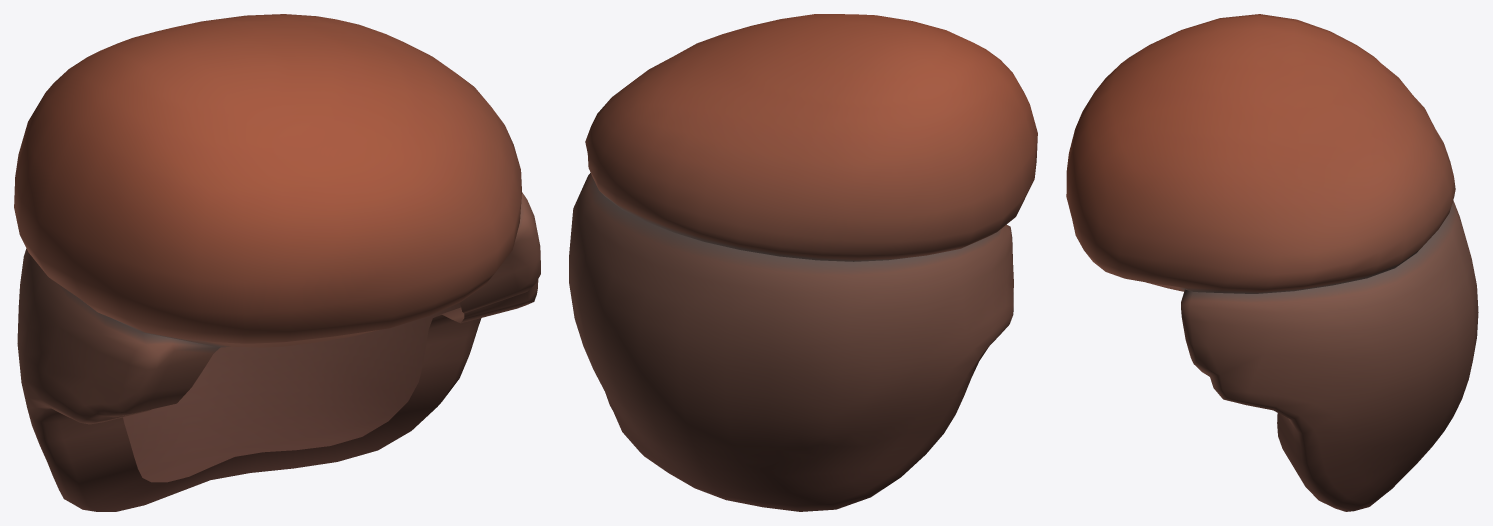
File: Hairstyle_Male_10.glb
The picture shows the model from 3 angles, left to right: view 1: azimuth 30°, elevation 25°; view 2: azimuth 150°, elevation 25°; view 3: azimuth 270°, elevation 25°; orthographic projection. The views are drawn at different scales.
Parts seen in each view (by area): view 1: Hairstyle_Male_10; view 2: Hairstyle_Male_10; view 3: Hairstyle_Male_10.
Part boxes in pixels (bbox=[...]): Hairstyle_Male_10: bbox=[14, 14, 540, 511]; Hairstyle_Male_10: bbox=[569, 14, 1037, 511]; Hairstyle_Male_10: bbox=[1066, 14, 1478, 511].
Size of the model in its own units: 0.6312 by 0.6404 by 0.5918.
Materials: 1 (1 with a texture image).
